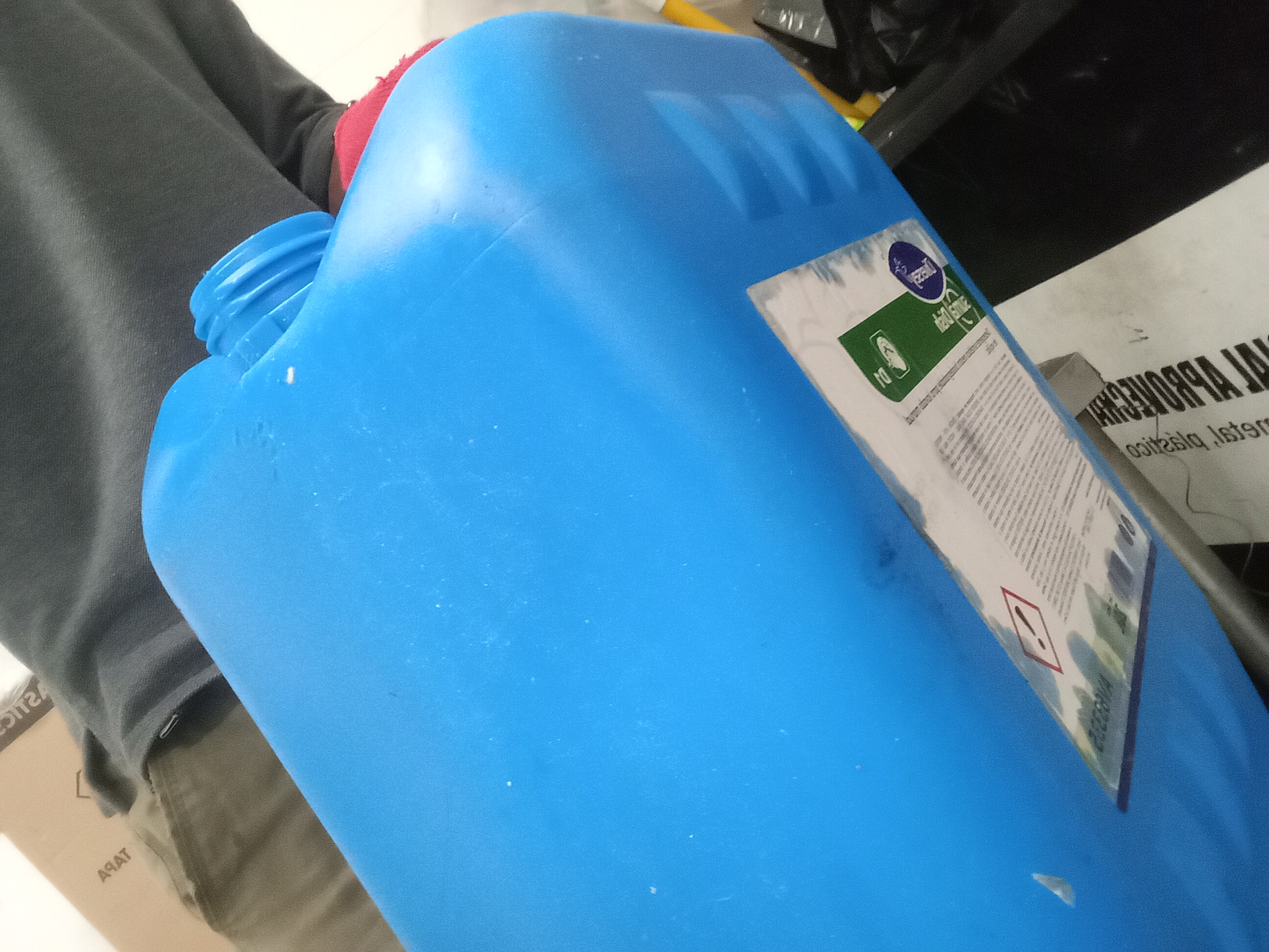Plastico: (141, 13, 1269, 952)
